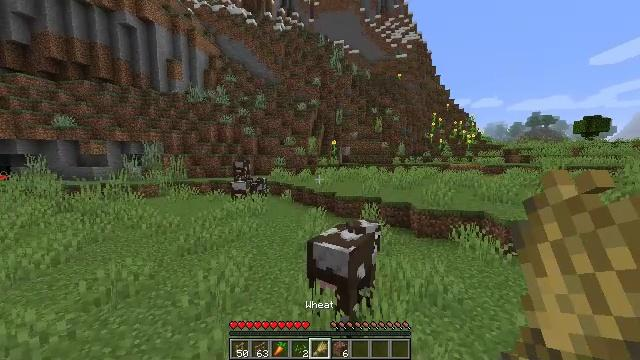cow: (307, 217, 388, 318), (232, 178, 250, 199), (233, 160, 252, 178), (251, 178, 269, 194)
